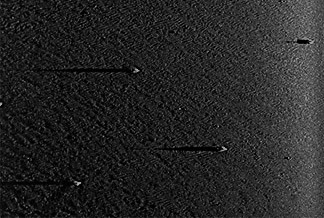mine: (31, 65, 140, 75), (136, 145, 228, 153), (1, 179, 80, 188), (280, 38, 311, 44)
